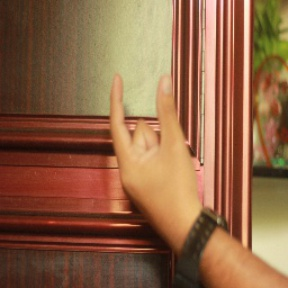U: (105, 64, 197, 207)
